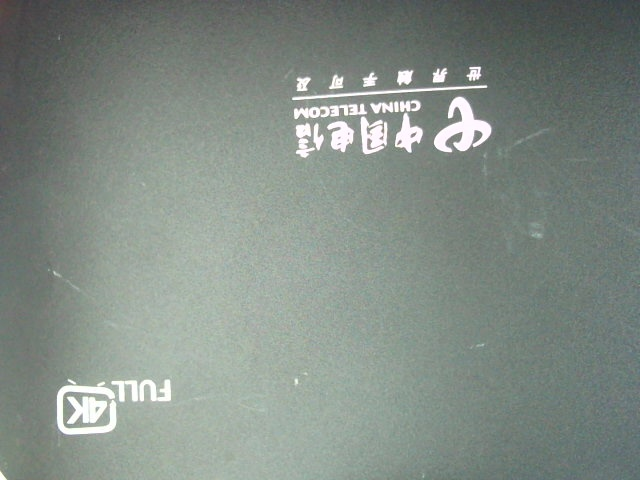AB_ChinaTelecom: (278, 54, 503, 165)
